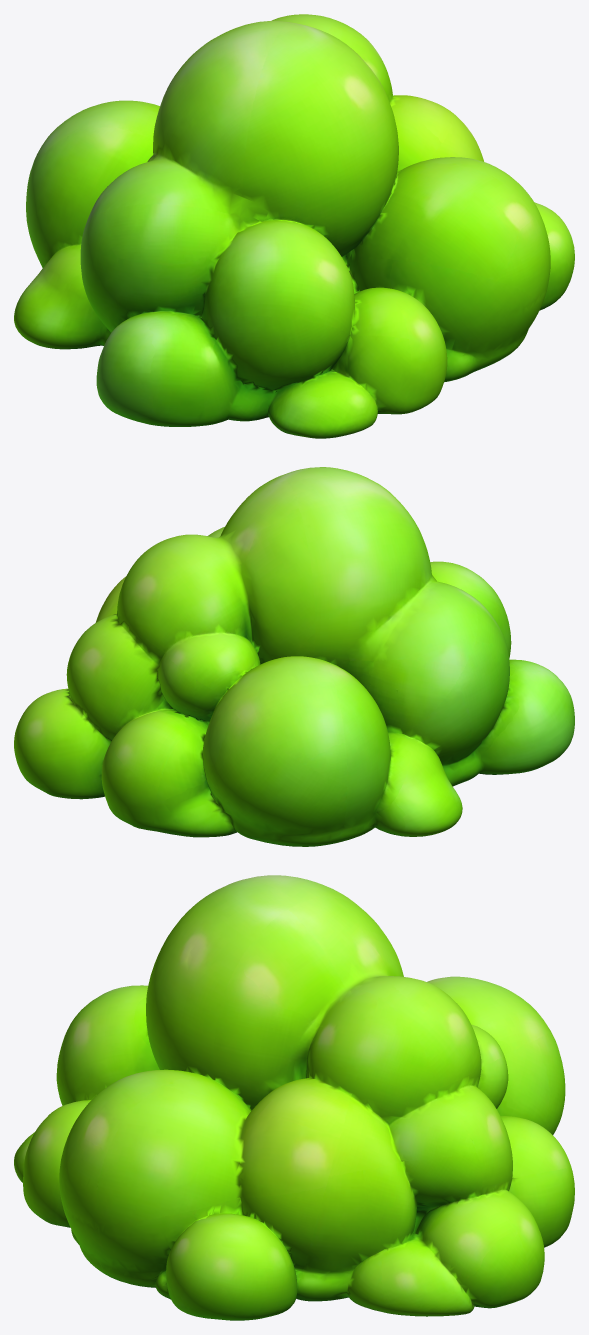
The model's file is arbustos-3d.glb.
3 renders of one model, top to bottom at view 1: azimuth 30°, elevation 25°; view 2: azimuth 150°, elevation 25°; view 3: azimuth 270°, elevation 25°, orthographic. The views are drawn at different scales.
Parts seen in each view (by area): view 1: tripo_node_aedf0ffe-559a-4256-879e-cdc73d826f1f; view 2: tripo_node_aedf0ffe-559a-4256-879e-cdc73d826f1f; view 3: tripo_node_aedf0ffe-559a-4256-879e-cdc73d826f1f.
Boxes of the visible parts, x1,y1,x2,y2 form: tripo_node_aedf0ffe-559a-4256-879e-cdc73d826f1f: (14, 14, 574, 438); tripo_node_aedf0ffe-559a-4256-879e-cdc73d826f1f: (14, 467, 574, 846); tripo_node_aedf0ffe-559a-4256-879e-cdc73d826f1f: (14, 875, 574, 1320).
Bounding box in the file's own units: 0.9799 × 0.5747 × 0.9348.
1 material, 1 textured.
